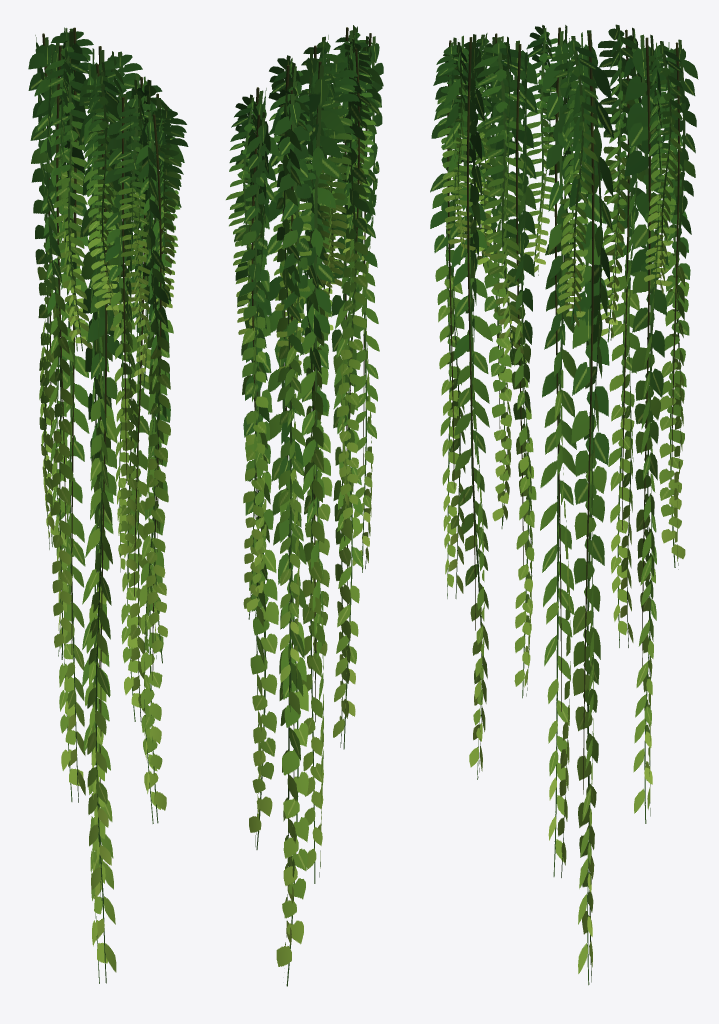
3 views of the same model, side by side, from view 1: azimuth 30°, elevation 25°; view 2: azimuth 150°, elevation 25°; view 3: azimuth 270°, elevation 25° (orthographic). The views are drawn at different scales.
Visible parts, largest first — view 1: Mesh_VineLeaves, Mesh_VineStems; view 2: Mesh_VineLeaves, Mesh_VineStems; view 3: Mesh_VineLeaves, Mesh_VineStems.
Part boxes in pixels (x1,y1,x2,y2): Mesh_VineLeaves: (28,27,188,983); Mesh_VineStems: (42,27,163,782); Mesh_VineLeaves: (226,25,383,986); Mesh_VineStems: (251,27,371,778); Mesh_VineLeaves: (430,24,698,985); Mesh_VineStems: (447,27,679,794).
Size of the model in its own units: 1.3 by 13.51 by 3.56.
Materials: 2 (2 with a texture image).
